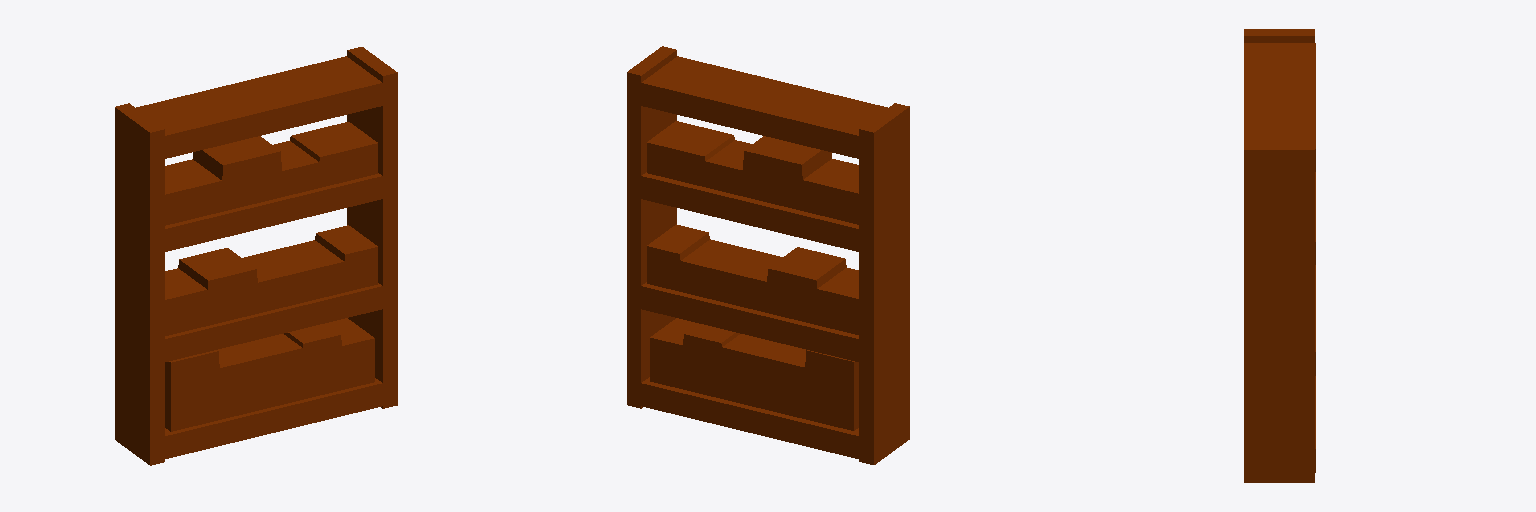
Rendered from polc_konyvekkel.obj.
3 renders of one model, left to right at view 1: azimuth 30°, elevation 25°; view 2: azimuth 150°, elevation 25°; view 3: azimuth 270°, elevation 25°, orthographic.
Visible parts, largest first — view 1: polc_konyvekkel; view 2: polc_konyvekkel; view 3: polc_konyvekkel.
Boxes of the visible parts, x1=… form: polc_konyvekkel: x1=115, y1=47, x2=397, y2=465; polc_konyvekkel: x1=627, y1=46, x2=909, y2=464; polc_konyvekkel: x1=1244, y1=29, x2=1315, y2=482.
Size of the model in its own units: 145 by 187 by 36.91.